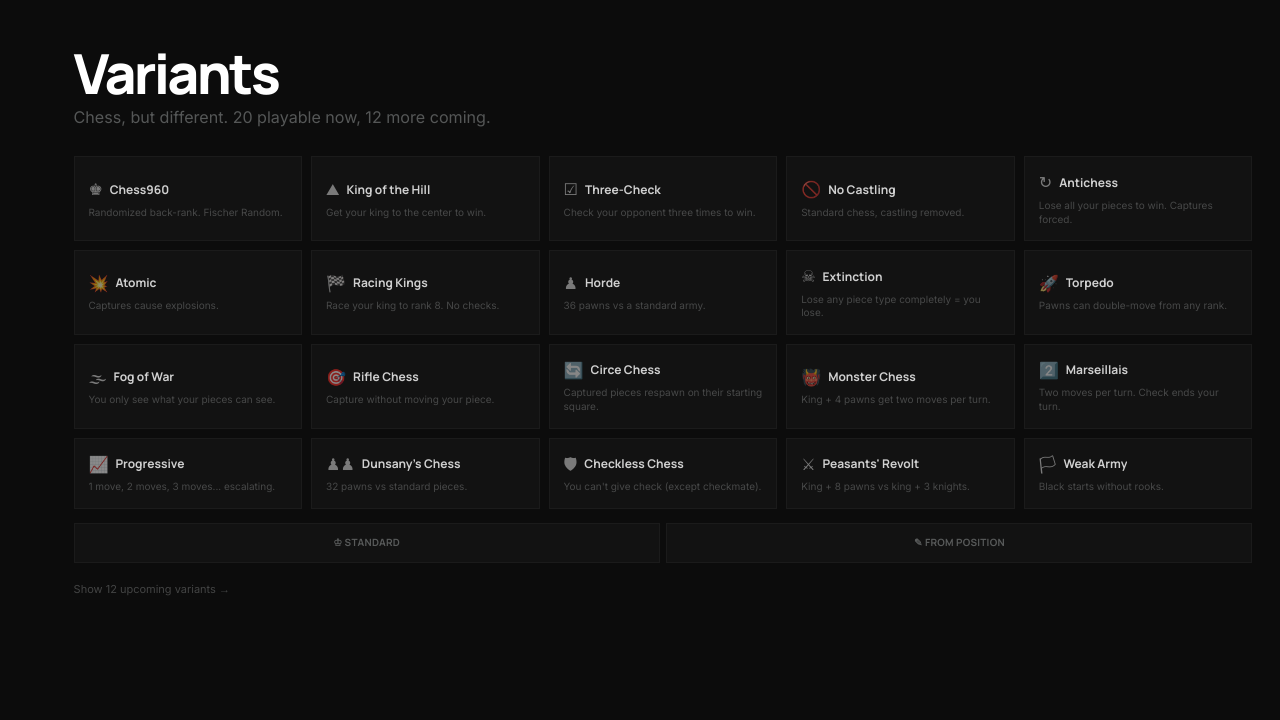
Test: VariantsPage › shows a disabled 'bot opponent unavailable' label for bot-unsupported variants
Click the heading "Atomic" at (136, 283), box [115,274,157,292]
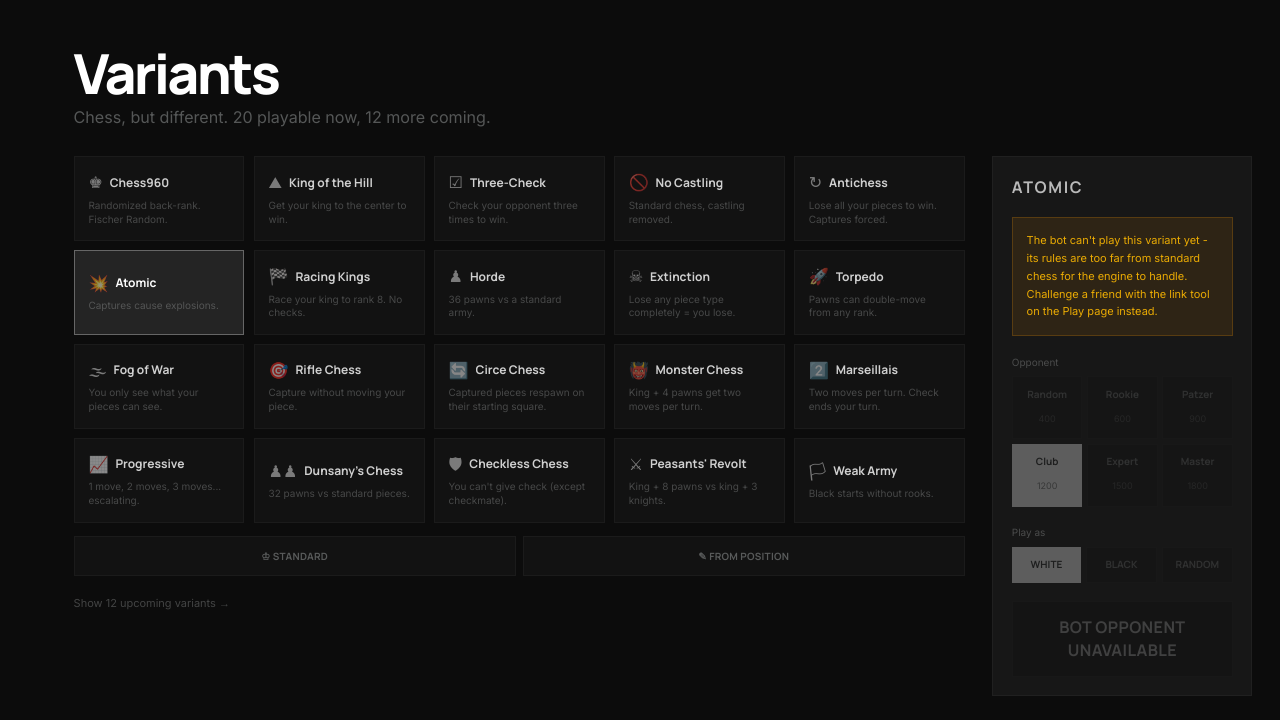
Check: the button "Bot opponent unavailable" is shown, box [1012,601,1233,677]
